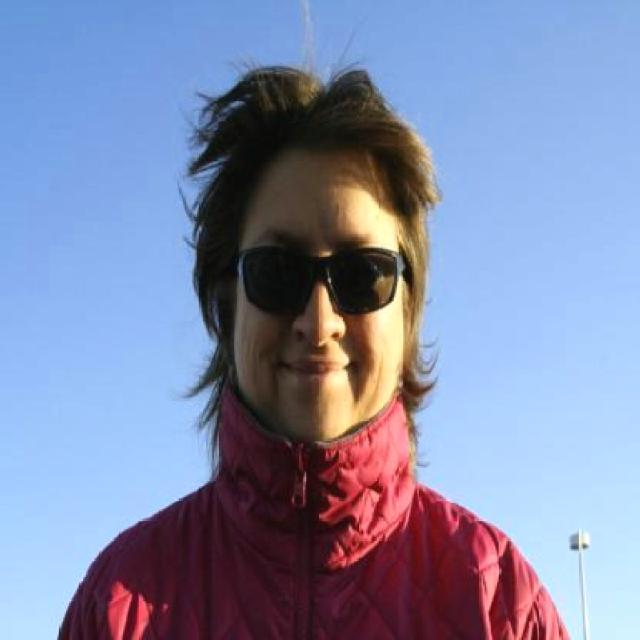face_nomask: (233, 245, 409, 403)
glasses: (229, 232, 408, 328)
head_nohelmet: (188, 71, 448, 204)
person: (51, 49, 578, 640)
